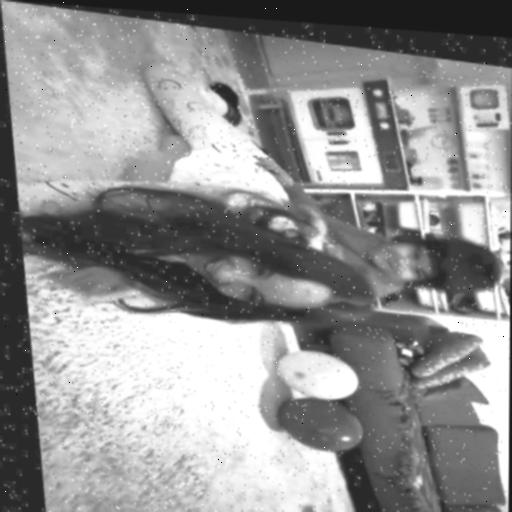balloon: (266, 388, 360, 453), (267, 339, 353, 400), (290, 511, 390, 512)
